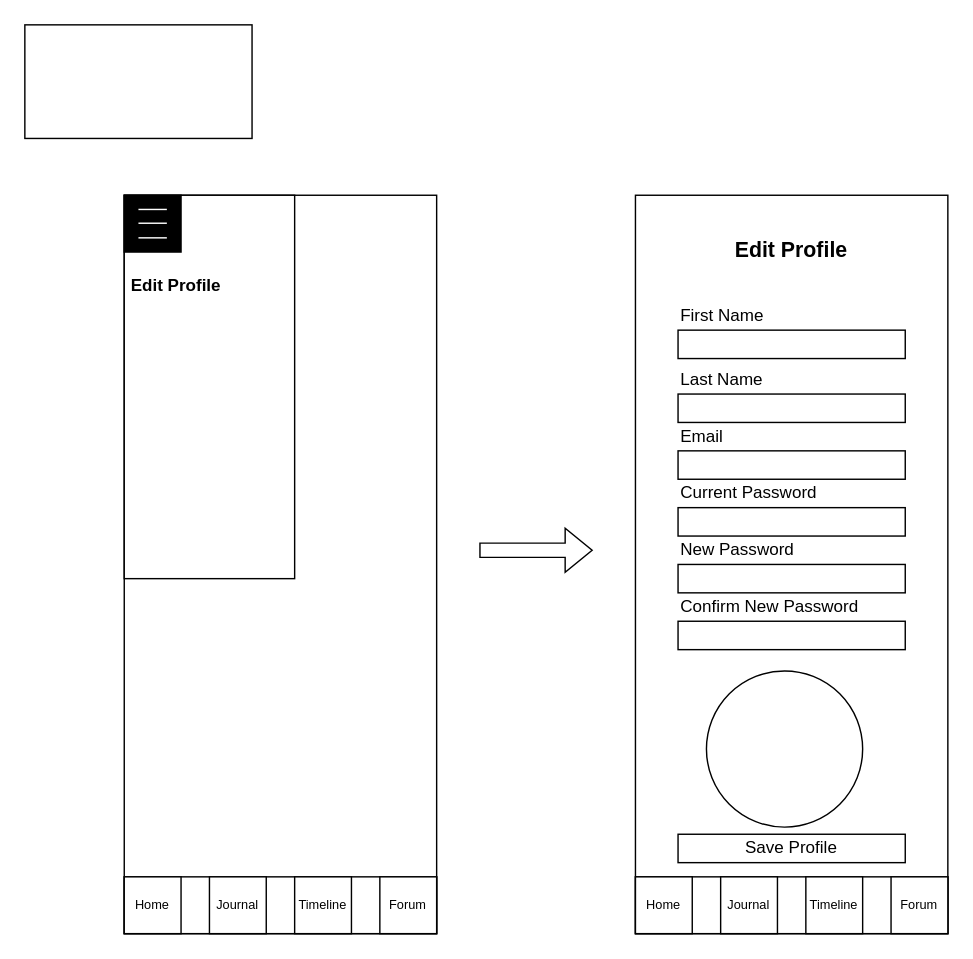
Image size: 973x959. Some labels were removed from this diagram. The shapes that lost their labels are listed below. From the top down, each one's centre as x and y in pixels, then its label:
At point (137, 80): "Change User Profile Info".
At point (784, 748): "Profile Photo".
